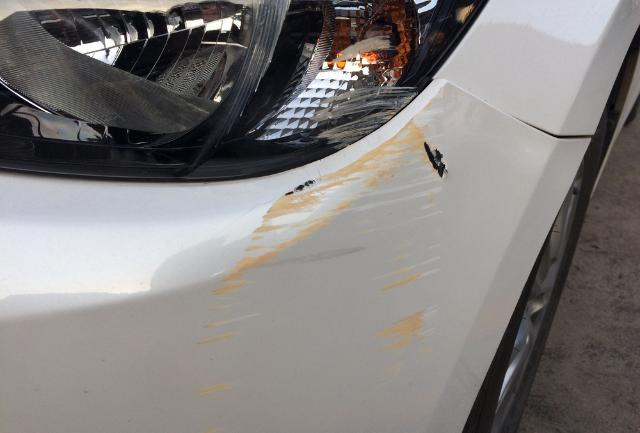scratch: (191, 89, 462, 402), (311, 85, 421, 147)
